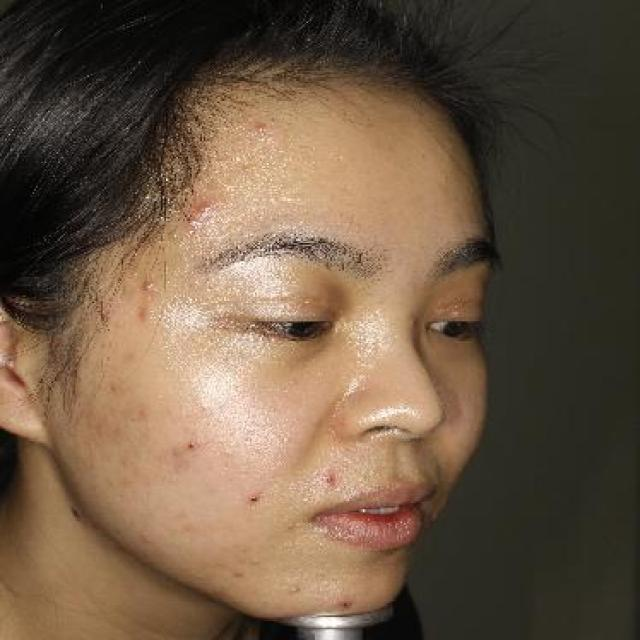Acne: (169, 212, 207, 232), (137, 269, 159, 297), (194, 200, 218, 217)
Blackheads: (173, 436, 205, 458), (238, 488, 269, 510), (318, 472, 341, 490), (334, 591, 356, 609)
Whiteheads: (248, 117, 276, 137)
